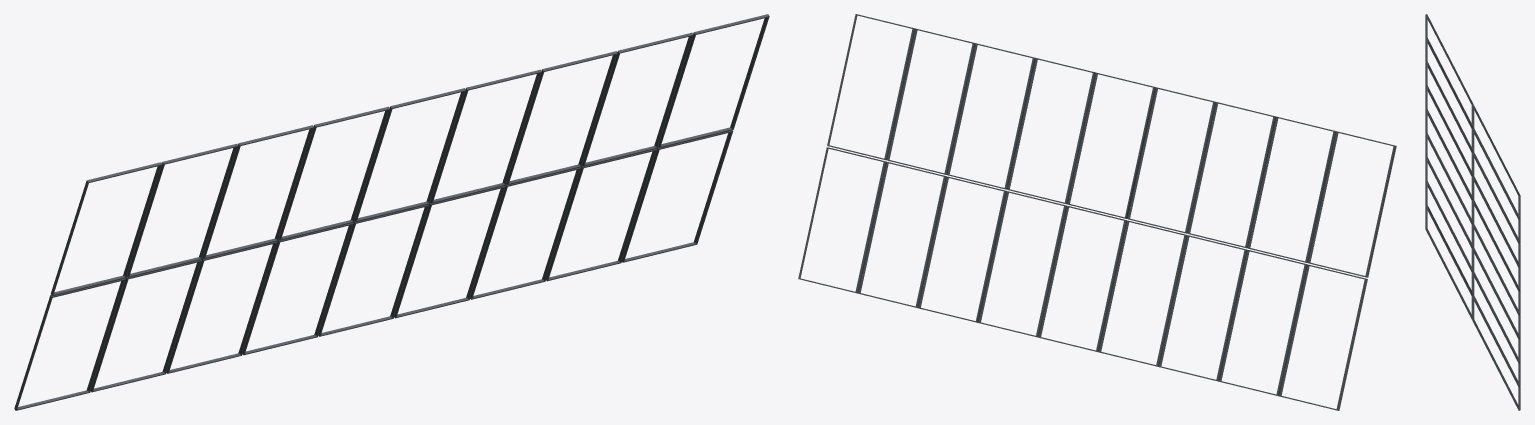
Rendered from half_table_frame.obj.
3 views of the same model, side by side, from view 1: azimuth 30°, elevation 25°; view 2: azimuth 150°, elevation 25°; view 3: azimuth 270°, elevation 25° (orthographic). The views are drawn at different scales.
Parts seen in each view (by area): view 1: half_table_frame; view 2: half_table_frame; view 3: half_table_frame.
Boxes of the visible parts, x1,y1,x2,y2 form: half_table_frame: [14, 14, 769, 410]; half_table_frame: [798, 14, 1396, 410]; half_table_frame: [1425, 14, 1520, 410].
Bounding box in the file's own units: 10.15 × 4.02 × 1.9.
Materials: 1 (1 with a texture image).
